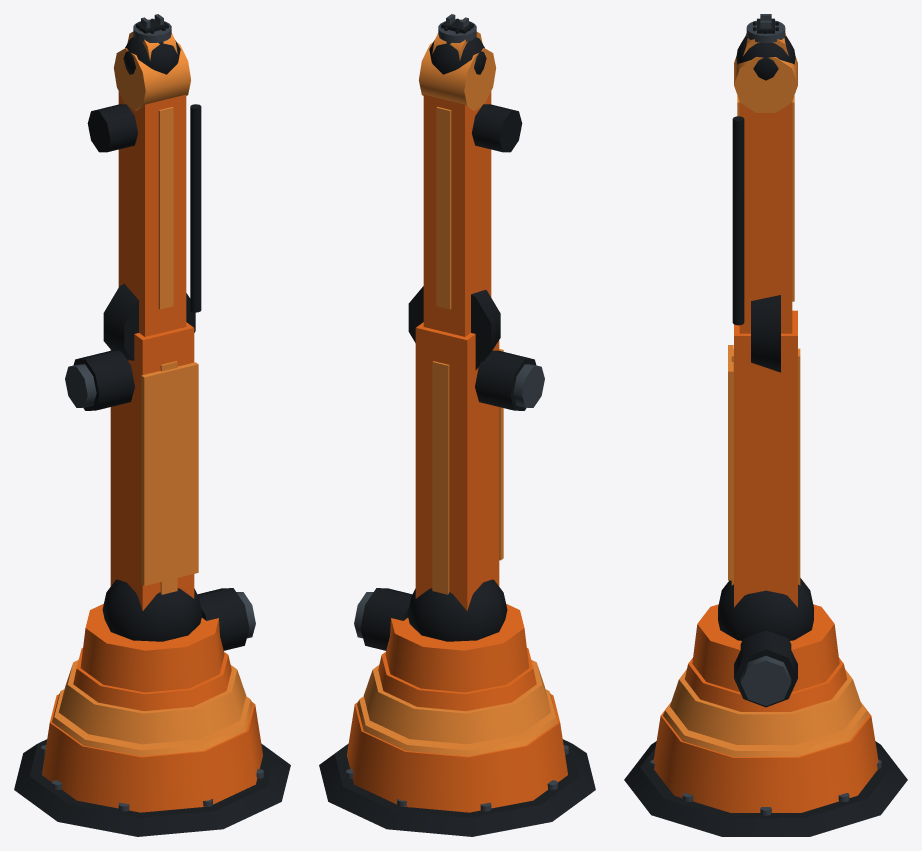
3 views of the same model, side by side, from view 1: azimuth 30°, elevation 25°; view 2: azimuth 150°, elevation 25°; view 3: azimuth 270°, elevation 25° (orthographic).
Parts seen in each view (by area): view 1: base:pedestal, link:upper-arm-panel, link:forearm, link:upper-arm, base:plate, link:shoulder, joint-cover:j1, joint-cover:j2, joint-housing:j1, link:forearm-rib, base:collar, joint-cover:j4 (+7 smaller); view 2: link:upper-arm, base:pedestal, link:forearm, base:plate, link:shoulder, joint-cover:j1, joint-cover:j2, link:upper-arm-rib, joint-housing:j1, link:forearm-rib, base:collar, joint-cover:j4 (+7 smaller); view 3: link:upper-arm, base:pedestal, link:forearm, base:plate, joint-cover:j1, link:shoulder, joint-cover:j2, joint-housing:j1, base:collar, cable:external, joint-cover:j4, joint-cover:j3 (+6 smaller).
Boxes of the visible parts, left/top/right/bottom form: base:pedestal: left=42, top=694, right=262, bottom=812; link:upper-arm-panel: left=141, top=362, right=198, bottom=585; link:forearm: left=118, top=91, right=186, bottom=336; link:upper-arm: left=110, top=322, right=194, bottom=610; base:plate: left=14, top=739, right=290, bottom=836; link:shoulder: left=80, top=603, right=224, bottom=692; joint-cover:j1: left=58, top=660, right=246, bottom=744; joint-cover:j2: left=102, top=579, right=202, bottom=641; joint-housing:j1: left=73, top=648, right=231, bottom=711; link:forearm-rib: left=158, top=107, right=173, bottom=309; base:collar: left=52, top=689, right=252, bottom=756; joint-cover:j4: left=114, top=42, right=190, bottom=110; link:upper-arm: left=415, top=322, right=499, bottom=610; base:pedestal: left=347, top=694, right=567, bottom=812; link:forearm: left=423, top=91, right=491, bottom=336; base:plate: left=319, top=739, right=595, bottom=836; link:shoulder: left=385, top=603, right=529, bottom=692; joint-cover:j1: left=363, top=660, right=551, bottom=744; joint-cover:j2: left=407, top=579, right=507, bottom=641; link:upper-arm-rib: left=432, top=361, right=449, bottom=594; joint-housing:j1: left=378, top=648, right=536, bottom=711; link:forearm-rib: left=436, top=107, right=451, bottom=309; base:collar: left=357, top=689, right=557, bottom=756; joint-cover:j4: left=419, top=42, right=495, bottom=110; link:upper-arm: left=734, top=310, right=797, bottom=607; base:pedestal: left=653, top=702, right=878, bottom=812; link:forearm: left=739, top=102, right=792, bottom=333; base:plate: left=624, top=741, right=907, bottom=836; joint-cover:j1: left=670, top=669, right=861, bottom=744; link:shoulder: left=692, top=604, right=839, bottom=692; joint-cover:j2: left=718, top=578, right=813, bottom=640; joint-housing:j1: left=685, top=658, right=846, bottom=711; base:collar: left=663, top=703, right=868, bottom=756; cable:external: left=732, top=116, right=744, bottom=325; joint-cover:j4: left=734, top=57, right=797, bottom=112; joint-cover:j3: left=751, top=295, right=780, bottom=372.
Size of the model in its own units: 1.89 by 5.87 by 1.98.
